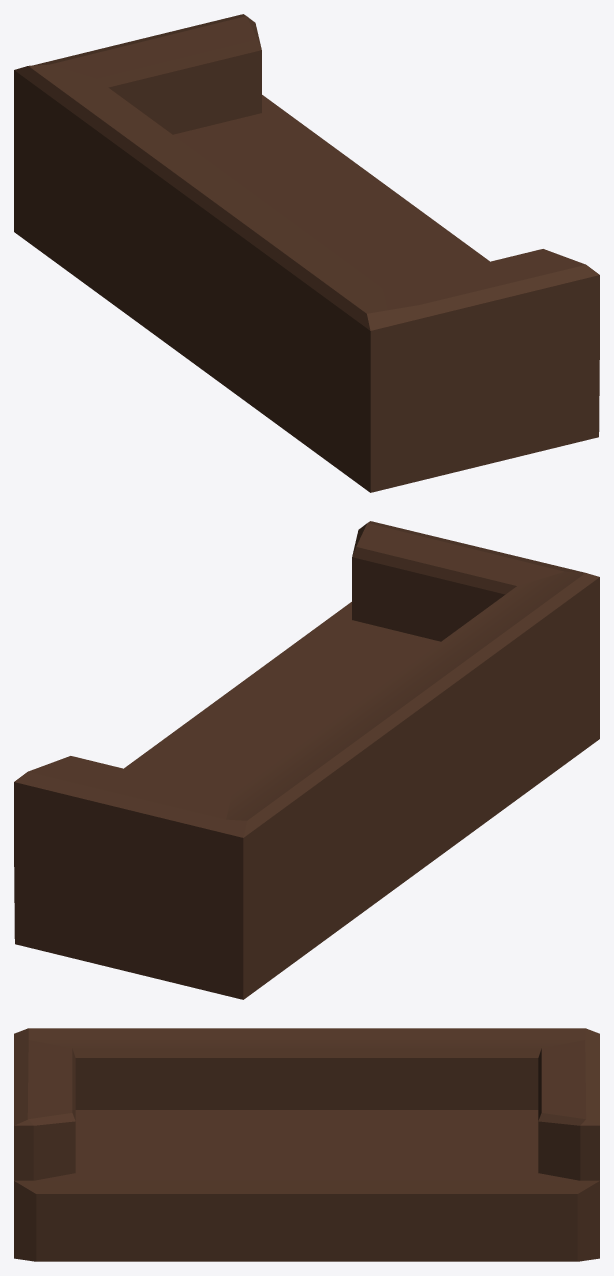
File: Couch.fbx
3 renders of one model, top to bottom at view 1: azimuth 30°, elevation 25°; view 2: azimuth 150°, elevation 25°; view 3: azimuth 270°, elevation 25°, orthographic. The views are drawn at different scales.
Parts seen in each view (by area): view 1: Cube.001; view 2: Cube.001; view 3: Cube.001.
Boxes of the visible parts, <box> form: Cube.001: <box>14,14,599,492</box>; Cube.001: <box>14,521,599,999</box>; Cube.001: <box>14,1028,599,1261</box>.
Size of the model in its own units: 76.63 by 53.04 by 200.
